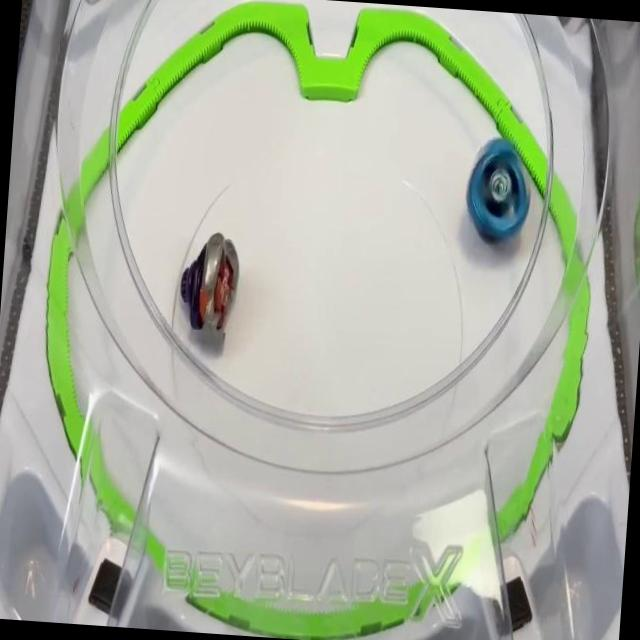Beyblade: (462, 134, 534, 246), (176, 229, 243, 337)
